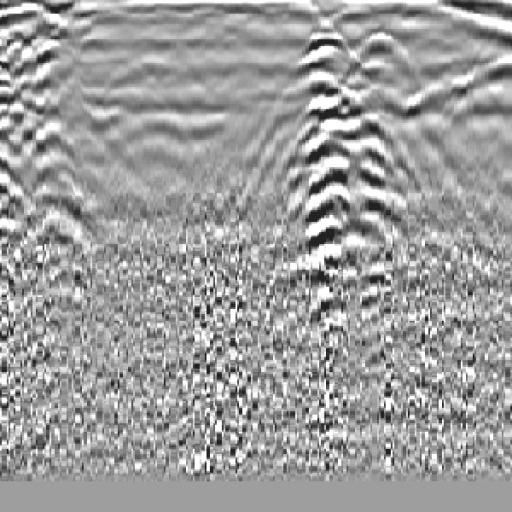metalic: (288, 16, 417, 337)
